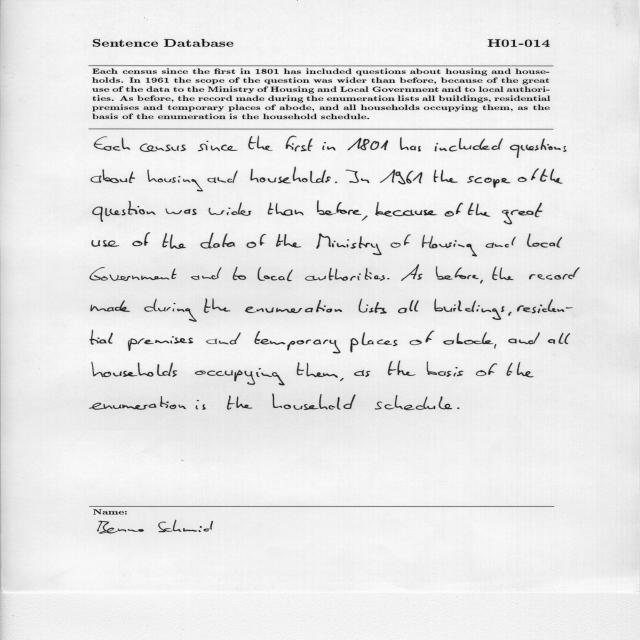word: (255, 331, 341, 353), (434, 299, 512, 320), (195, 368, 285, 385), (316, 234, 382, 255), (250, 167, 331, 184), (89, 396, 186, 410), (272, 394, 356, 410), (93, 201, 155, 222), (92, 362, 177, 377), (245, 300, 342, 313), (148, 170, 204, 192), (144, 299, 197, 322), (422, 235, 477, 257), (90, 267, 176, 281), (375, 395, 452, 410), (510, 139, 567, 158), (305, 268, 385, 281), (317, 201, 368, 221), (128, 336, 193, 351), (351, 333, 398, 353), (434, 138, 503, 151), (502, 203, 542, 224), (523, 299, 573, 314), (529, 267, 580, 280), (297, 362, 338, 378), (444, 332, 494, 345), (380, 170, 422, 185), (436, 266, 479, 280), (209, 202, 251, 216), (427, 361, 463, 377), (91, 170, 135, 183), (201, 233, 236, 249), (94, 136, 130, 151), (527, 233, 562, 248), (467, 176, 510, 188), (268, 202, 304, 216), (258, 268, 293, 282), (348, 138, 388, 150), (91, 300, 130, 312), (198, 141, 238, 152), (359, 299, 387, 314), (206, 333, 241, 345), (140, 143, 186, 152), (286, 136, 313, 151), (388, 361, 415, 376), (507, 362, 534, 377), (191, 267, 221, 280), (162, 233, 186, 249), (508, 332, 540, 344), (248, 136, 273, 151), (401, 264, 423, 281), (207, 171, 238, 183), (204, 299, 230, 313), (276, 234, 301, 248), (410, 331, 435, 345), (227, 396, 252, 410), (90, 330, 113, 345), (540, 169, 562, 184), (486, 237, 516, 248), (433, 170, 458, 183), (400, 137, 421, 152), (468, 203, 490, 217), (492, 267, 514, 281), (346, 170, 369, 183), (518, 168, 539, 182), (246, 234, 266, 248), (391, 234, 411, 248), (398, 300, 419, 313), (476, 363, 497, 376), (393, 210, 438, 216), (444, 203, 463, 217), (375, 202, 392, 217), (548, 333, 570, 344), (132, 233, 150, 246), (166, 208, 197, 215), (92, 240, 119, 247), (233, 267, 246, 280), (322, 142, 336, 150), (354, 370, 370, 377), (196, 400, 206, 410), (517, 305, 524, 312), (480, 280, 483, 284), (340, 378, 344, 381), (494, 344, 496, 349), (457, 407, 460, 409), (335, 182, 338, 183), (388, 278, 390, 279)
